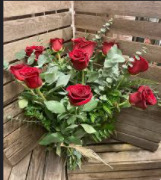RedRose: (11, 63, 41, 93), (61, 79, 93, 105), (127, 85, 159, 110), (123, 55, 152, 78), (22, 42, 44, 64), (74, 33, 94, 56), (69, 45, 88, 69), (100, 40, 121, 56), (48, 36, 65, 54)
